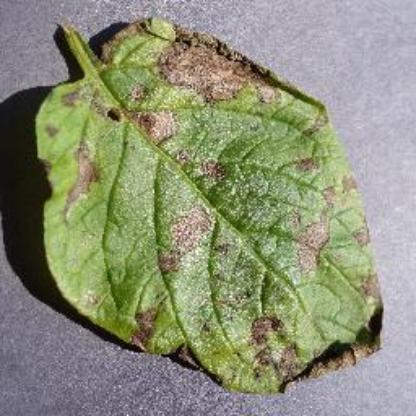Early-Blight: (33, 16, 392, 396)
